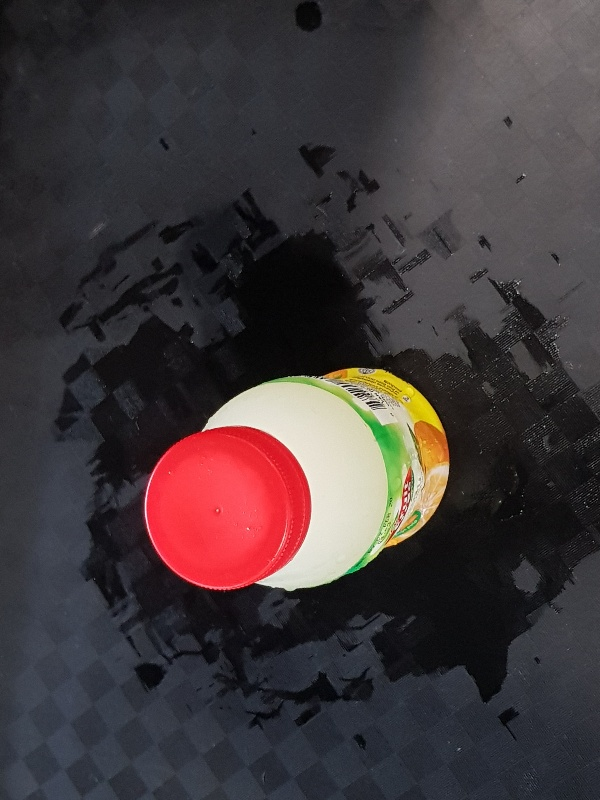Fruit Tree Yuzu Mixed Juice Drink: (141, 366, 452, 593)
